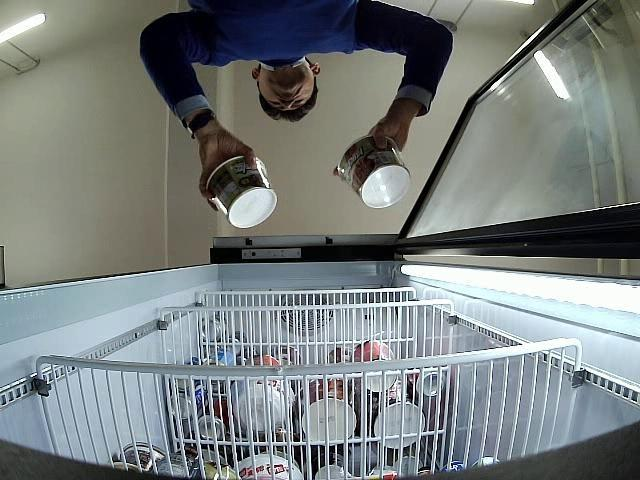03_chapagetti_L: (206, 156, 278, 230), (338, 136, 411, 208)
